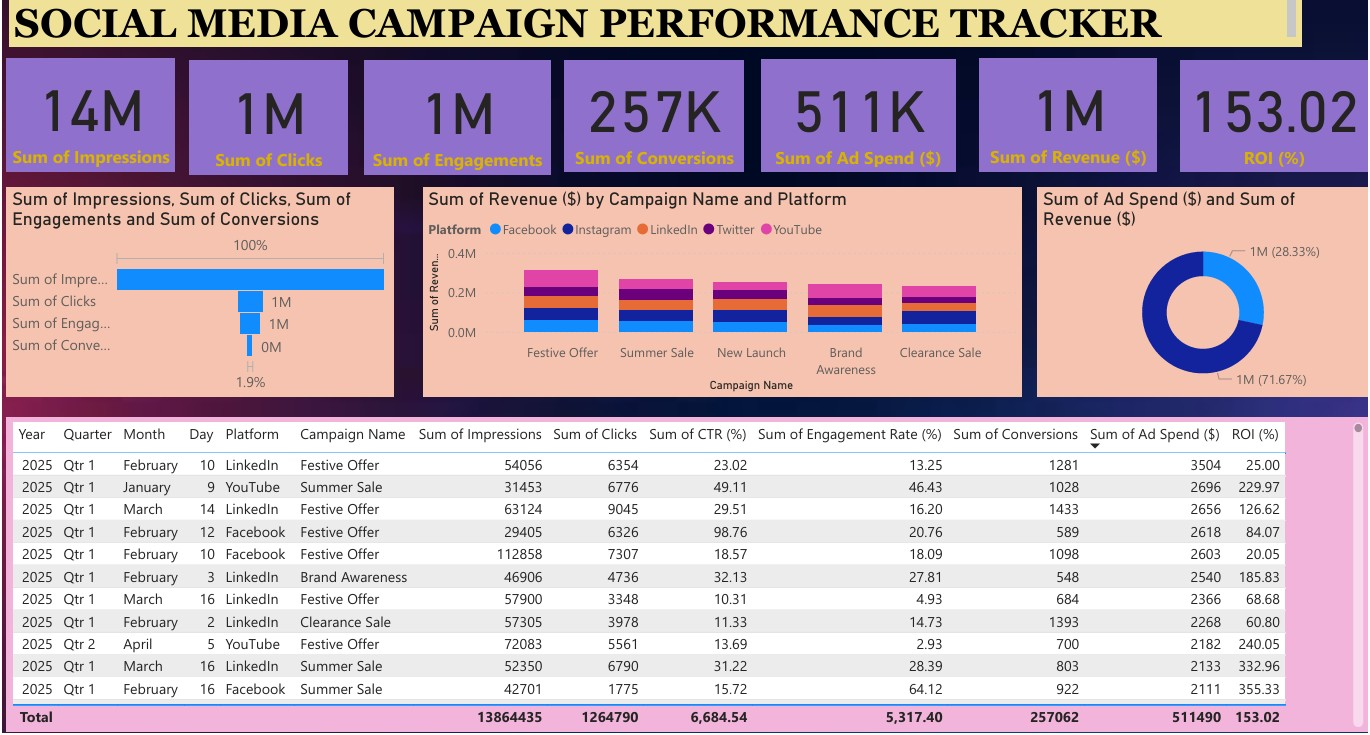

Layout of this report page (visuals, bound fields, positions):
{"tool":"powerbi","page":{"name":"Page 1","canvas":[1280,720],"ordinal":0},"visuals":[{"type":"card","fields":{"Values":["Sum(Sheet1.Impressions)"]},"box":[4,87.7,157.8,106.6],"z":0},{"type":"card","fields":{"Values":["Sum(Sheet1.Clicks)"]},"box":[175.4,90.4,148.4,106.6],"z":1000},{"type":"card","fields":{"Values":["Sum(Sheet1.Engagements)"]},"box":[338.6,90.4,175.4,106.6],"z":2000},{"type":"card","fields":{"Values":["Sum(Sheet1.Conversions)"]},"box":[527.5,90.4,167.3,103.9],"z":3000},{"type":"card","fields":{"Values":["Sum(Sheet1.Ad Spend ($))"]},"box":[711,89,182.1,105.2],"z":4000},{"type":"card","fields":{"Values":["Sum(Sheet1.Revenue ($))"]},"box":[916,87.7,165.9,106.6],"z":5000},{"type":"card","fields":{"Values":["Sheet1.ROI (%)"]},"box":[1103.5,90.4,176.7,103.9],"z":6000},{"type":"columnChart","fields":{"Category":["Sheet1.Campaign Name"],"Y":["Sum(Sheet1.Revenue ($))"],"Series":["Sheet1.Platform"]},"box":[393.9,209.1,561.2,195.6],"z":9000},{"type":"funnel","fields":{"Y":["Sum(Sheet1.Impressions)","Sum(Sheet1.Clicks)","Sum(Sheet1.Engagements)","Sum(Sheet1.Conversions)"]},"box":[4,209.1,362.9,195.6],"z":10000},{"type":"donutChart","fields":{"Y":["Sum(Sheet1.Ad Spend ($))","Sum(Sheet1.Revenue ($))"]},"box":[970,209.1,310.3,195.6],"z":11000},{"type":"tableEx","fields":{"Values":["Sheet1.Date.Variation.Date Hierarchy.Year","Sheet1.Date.Variation.Date Hierarchy.Quarter","Sheet1.Date.Variation.Date Hierarchy.Month","Sheet1.Date.Variation.Date Hierarchy.Day","Sheet1.Platform","Sheet1.Campaign Name","Sum(Sheet1.Impressions)","Sum(Sheet1.Clicks)","Sum(Sheet1.CTR (%))","Sum(Sheet1.Engagement Rate (%))","Sum(Sheet1.Conversions)","Sum(Sheet1.Ad Spend ($))"]},"box":[4,423.6,1276.2,295.4],"z":12000},{"type":"actionButton","box":[0,0,100,40],"z":13000},{"type":"textbox","box":[49.9,9.4,1211.5,62.1],"z":14001}]}

Visuals, with their boxes in screenshot pixels (x1, y1, x2, y2):
card - Sum(Sheet1.Impressions): box(4, 52, 175, 167)
card - Sum(Sheet1.Clicks): box(190, 55, 350, 170)
card - Sum(Sheet1.Engagements): box(366, 55, 556, 170)
card - Sum(Sheet1.Conversions): box(571, 55, 752, 167)
card - Sum(Sheet1.Ad Spend ($)): box(769, 53, 966, 167)
card - Sum(Sheet1.Revenue ($)): box(991, 52, 1171, 167)
card - Sheet1.ROI (%): box(1194, 55, 1369, 167)
columnChart - Sheet1.Campaign Name x Sum(Sheet1.Revenue ($)): box(426, 183, 1033, 395)
funnel - Sum(Sheet1.Impressions) x Sum(Sheet1.Clicks): box(4, 183, 397, 395)
donutChart - Sum(Sheet1.Ad Spend ($)) x Sum(Sheet1.Revenue ($)): box(1050, 183, 1369, 395)
tableEx - Sheet1.Date.Variation.Date Hierarchy.Year x Sheet1.Date.Variation.Date Hierarchy.Quarter: box(4, 416, 1369, 734)
textbox: box(54, 0, 1365, 35)
